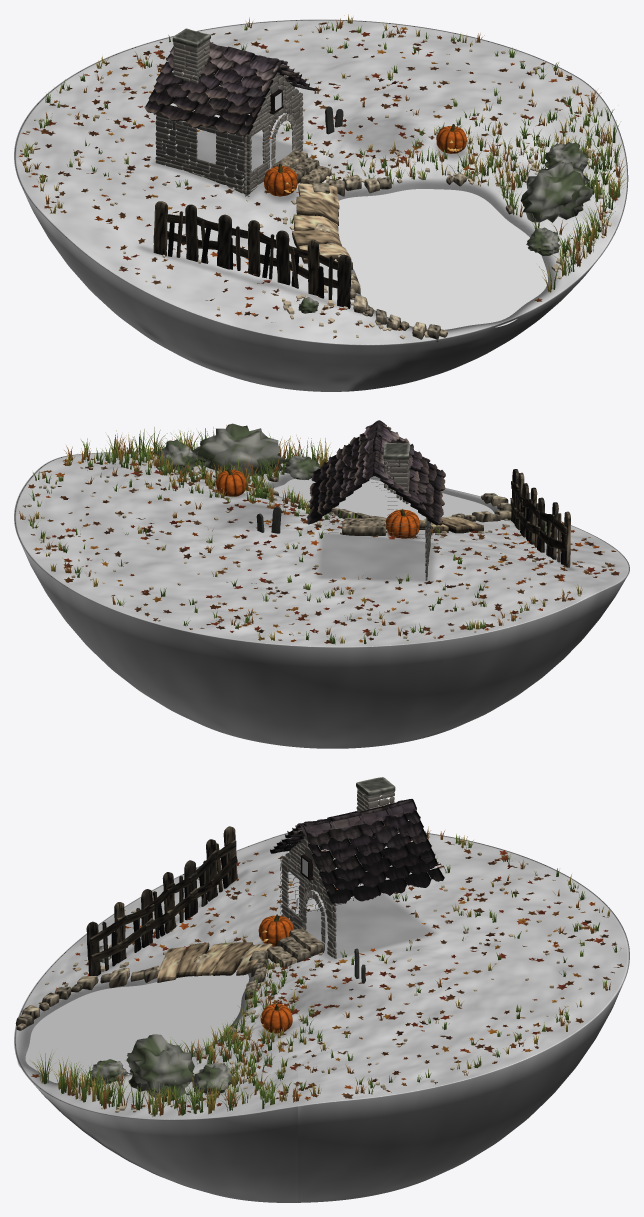
Rendered from village-fall.glb.
3 renders of one model, top to bottom at view 1: azimuth 30°, elevation 25°; view 2: azimuth 150°, elevation 25°; view 3: azimuth 270°, elevation 25°, orthographic. The views are drawn at different scales.
Parts seen in each view (by area): view 1: ground, decor, water; view 2: ground, decor, water; view 3: ground, decor, water.
Boxes of the visible parts, x1,y1,x2,y2 form: ground: [14, 19, 628, 391]; decor: [19, 14, 627, 341]; water: [338, 189, 547, 329]; ground: [14, 451, 629, 748]; decor: [18, 420, 619, 644]; water: [273, 478, 494, 519]; ground: [14, 830, 629, 1202]; decor: [15, 777, 623, 1116]; water: [17, 970, 249, 1083].
Size of the model in its own units: 105 by 54.66 by 99.13.
